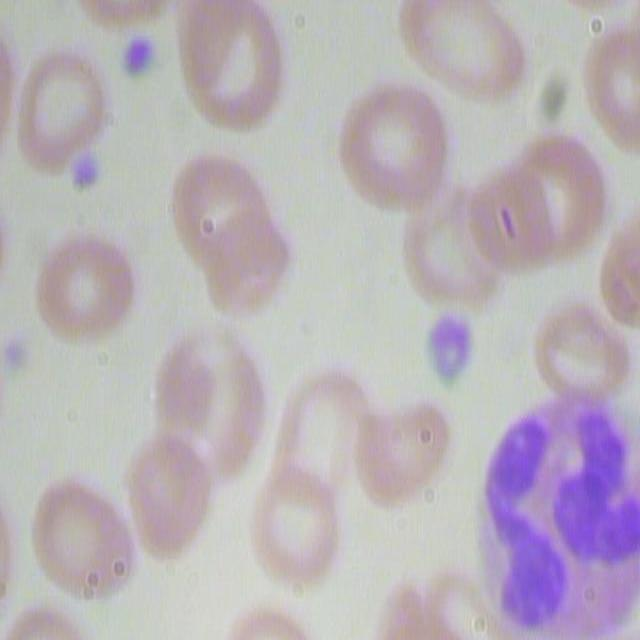RBC: (170, 142, 298, 322), (153, 321, 281, 488), (496, 132, 610, 278), (334, 80, 454, 215), (174, 2, 290, 134), (398, 175, 510, 309), (407, 0, 534, 110), (28, 475, 135, 604), (4, 43, 112, 170), (34, 226, 136, 347), (241, 463, 340, 587), (290, 371, 372, 517), (532, 296, 633, 408), (122, 434, 212, 556), (362, 411, 451, 514), (582, 8, 640, 151), (598, 205, 640, 339)
WBC: (484, 404, 637, 639)
platelets: (422, 300, 482, 402), (118, 31, 161, 86), (70, 148, 106, 197)
